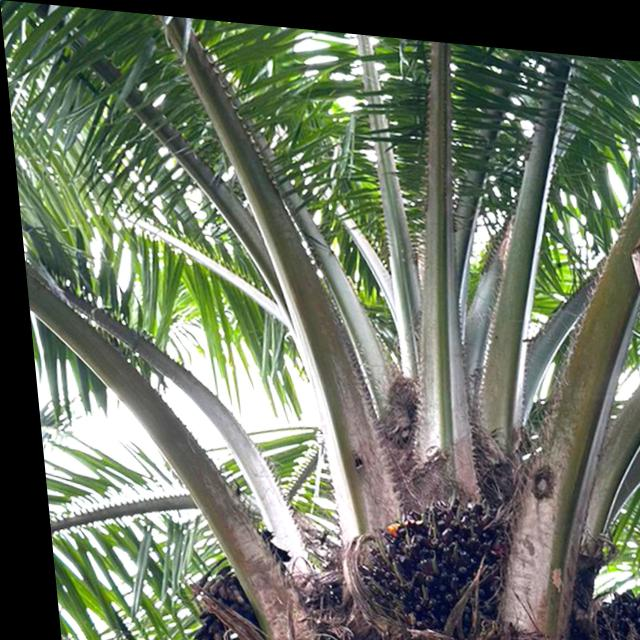almost: (333, 475, 514, 637), (557, 566, 640, 640)
